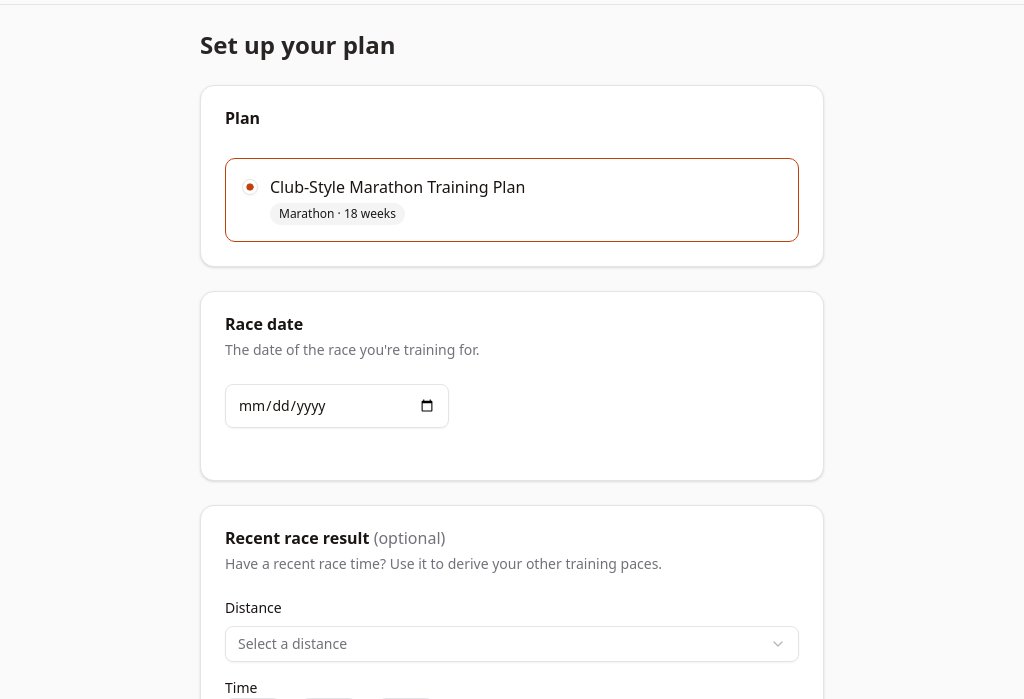
Scenario: setup: Create my plan › shows the plan-shape line above the button, built from the generated plan (Wednesday race)
The width and height of the screenshot is (1024, 699).
Type "2026-12-16" into the date field with id "race-date" at (337, 406), box [225, 384, 449, 428]
(page scrolled)
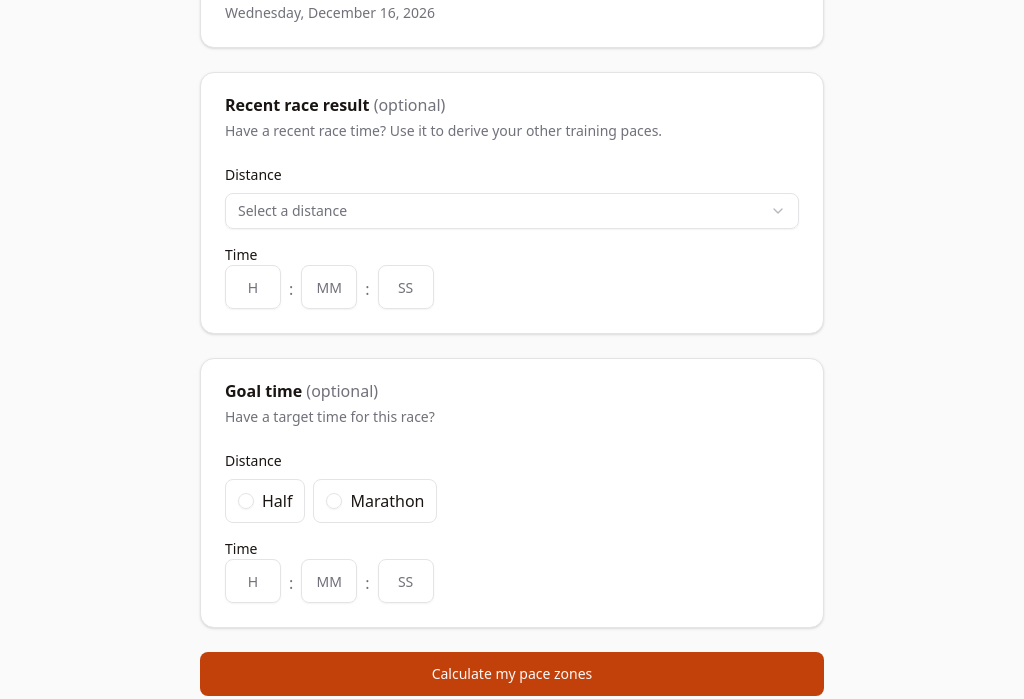
Click the radio button named "Half" next to "Half" at (246, 501), box [238, 493, 254, 509]
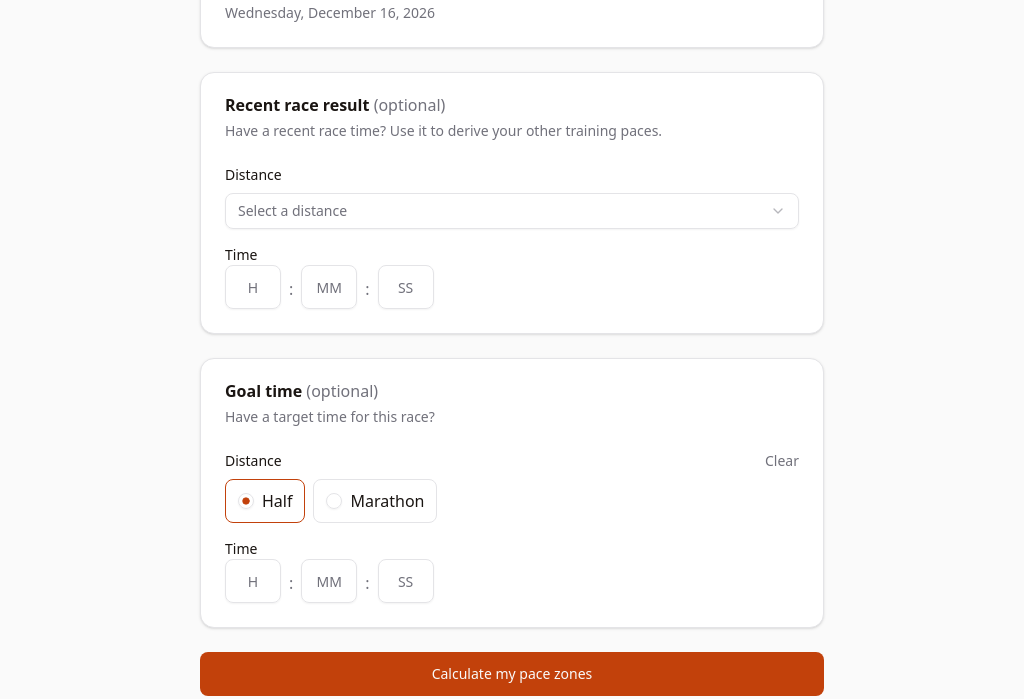
Type "1" into the field with id "goal-time-hours" at (253, 581), box [225, 559, 281, 603]
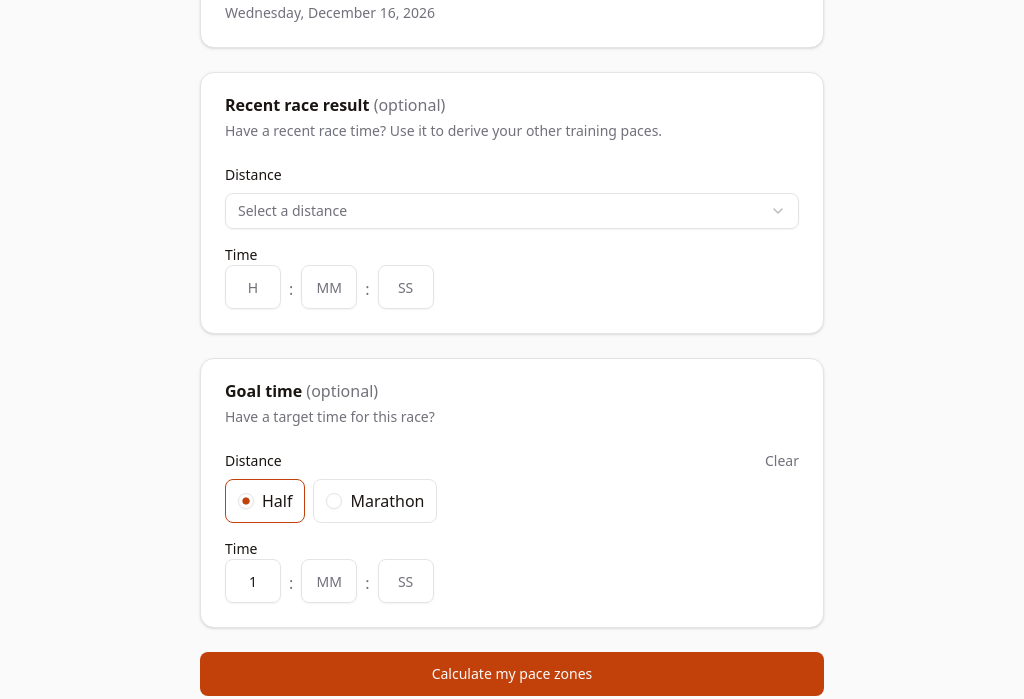
Type "45" into the field with id "goal-time-minutes" at (329, 581), box [301, 559, 357, 603]
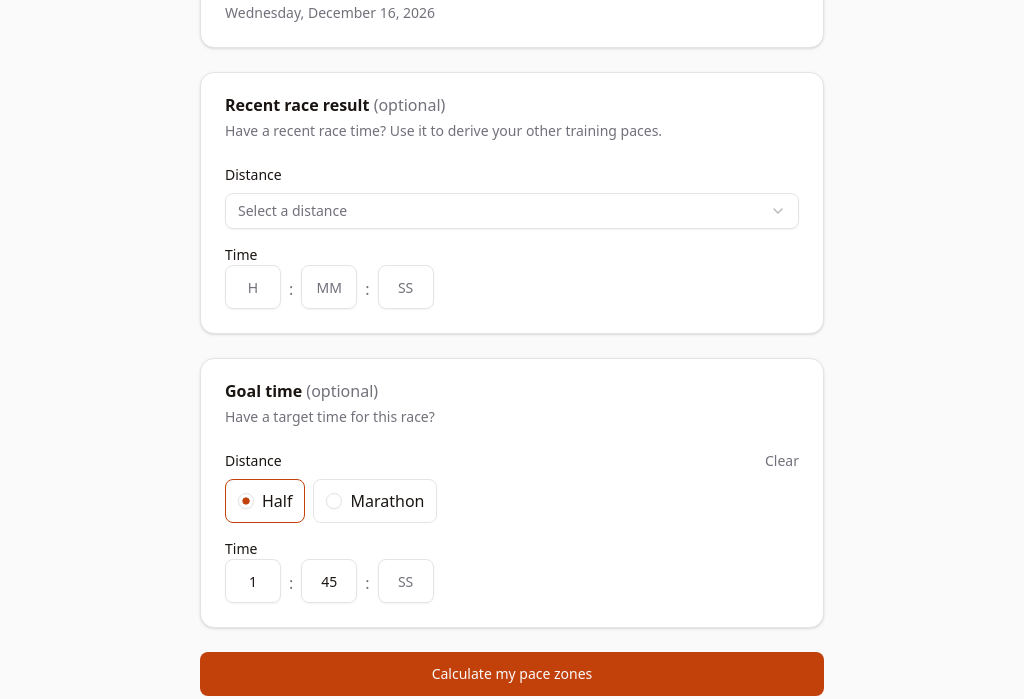
Type "0" into the field with id "goal-time-seconds" at (406, 581), box [378, 559, 434, 603]
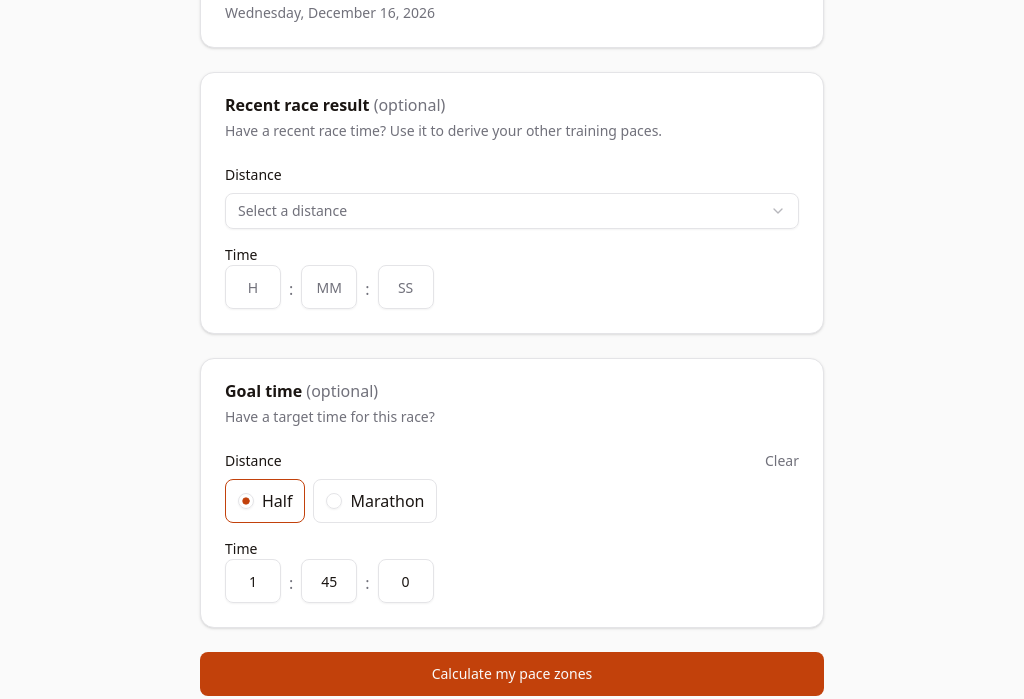
Click the button "Calculate my pace zones" at (512, 674), box [200, 652, 824, 696]
(page scrolled)
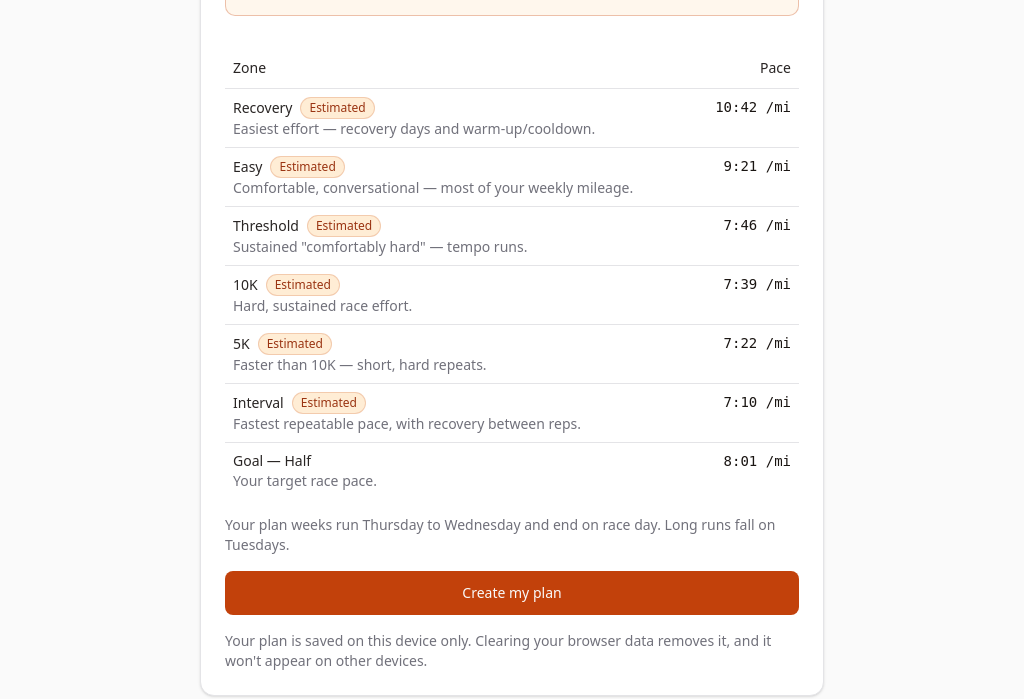
Check: the text "Your plan is saved on this device only" is shown, box [225, 630, 771, 670]
